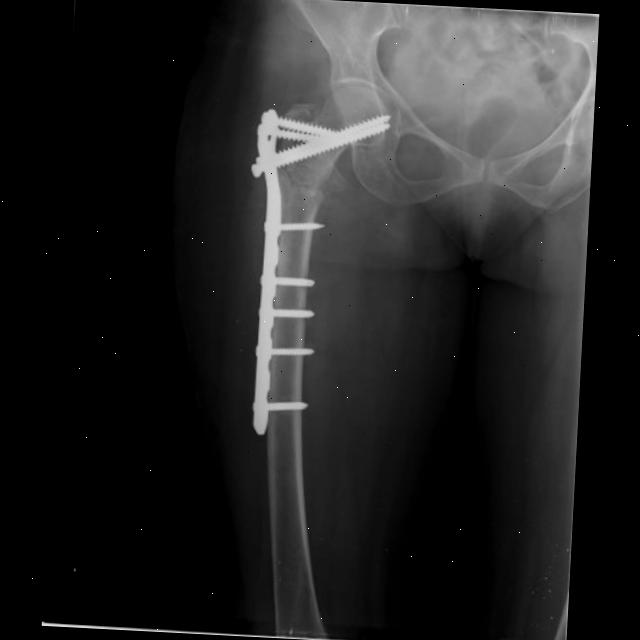Fracture: (275, 164, 327, 200)
